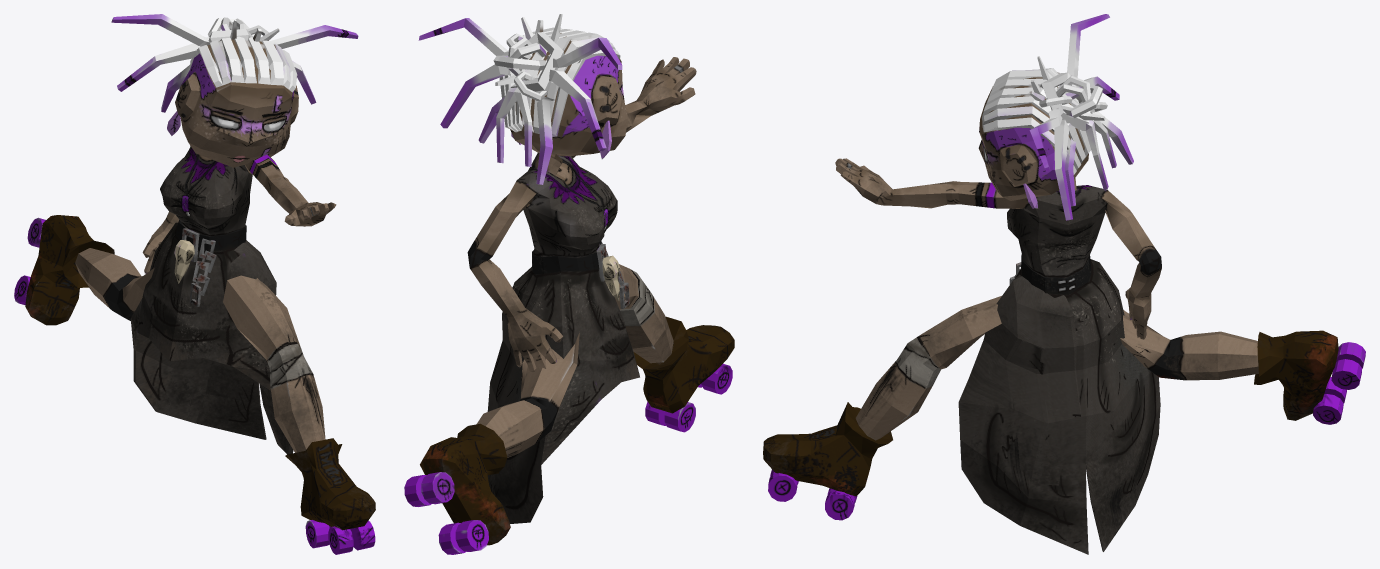
Rendered from bruja_000025.obj.
3 views of the same model, side by side, from view 1: azimuth 30°, elevation 25°; view 2: azimuth 150°, elevation 25°; view 3: azimuth 270°, elevation 25° (orthographic). The views are drawn at different scales.
Visible parts, largest first — view 1: Bruja_Plane.001; view 2: Bruja_Plane.001; view 3: Bruja_Plane.001.
Boxes of the visible parts, x1,y1,x2,y2 form: Bruja_Plane.001: [14, 14, 375, 554]; Bruja_Plane.001: [404, 14, 734, 554]; Bruja_Plane.001: [763, 14, 1365, 554].
Bounding box in the file's own units: 7.13 × 14.59 × 16.96.
